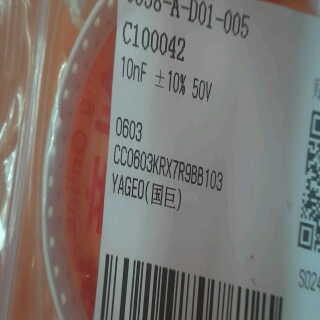10nF: (117, 53, 150, 89)
